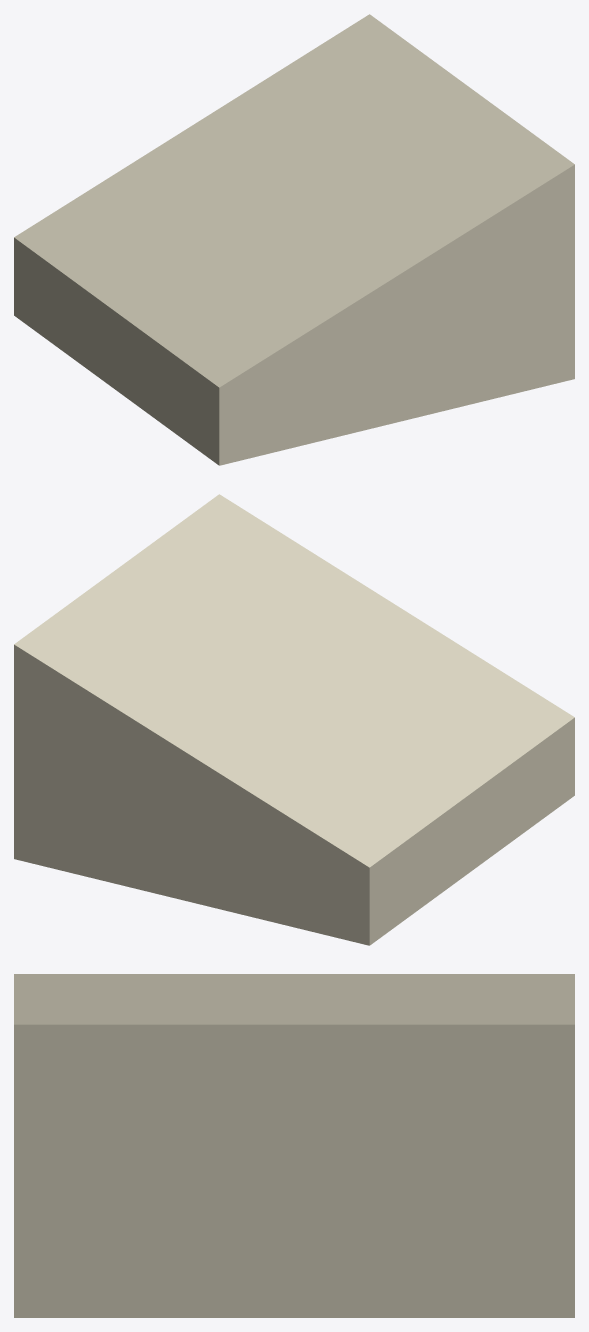
The model's file is tile054.fbx.
The picture shows the model from 3 angles, top to bottom: view 1: azimuth 30°, elevation 25°; view 2: azimuth 150°, elevation 25°; view 3: azimuth 270°, elevation 25°; orthographic projection. The views are drawn at different scales.
Parts seen in each view (by area): view 1: tile054; view 2: tile054; view 3: tile054.
Part boxes in pixels (bbox=[...]): tile054: bbox=[14, 14, 574, 465]; tile054: bbox=[14, 494, 574, 945]; tile054: bbox=[14, 974, 574, 1317].
Size of the model in its own units: 10 by 5.77 by 10.
